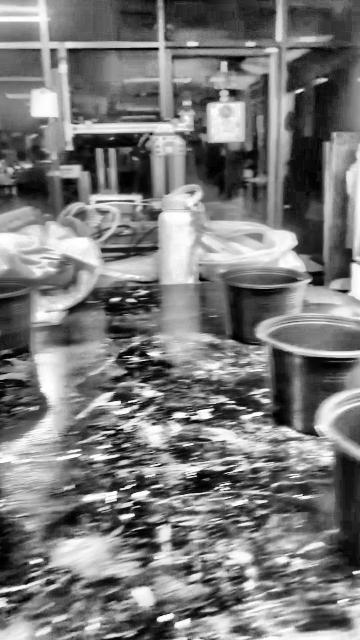pot: (256, 313, 359, 435), (317, 389, 359, 570), (222, 266, 310, 343), (0, 277, 31, 359)
